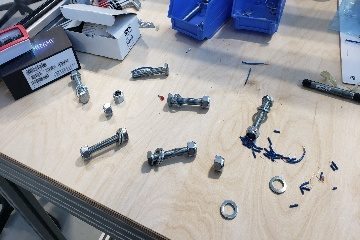Bolt: (129, 59, 173, 82)
FalseAssembly: (245, 93, 274, 140), (165, 92, 211, 110)
FinishedAssembly: (79, 122, 131, 162), (146, 138, 199, 167), (69, 69, 90, 104)
Nut: (111, 89, 126, 104), (214, 154, 225, 172), (103, 103, 113, 117)
Washer: (267, 173, 290, 196), (218, 199, 239, 220)
